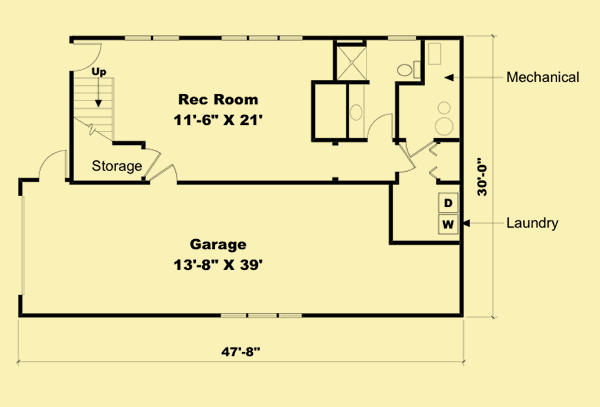door: (139, 140, 179, 187), (34, 145, 70, 185), (65, 37, 103, 74), (364, 110, 400, 142), (389, 143, 419, 180), (403, 132, 439, 162)
large sink: (393, 55, 422, 83)
small sink: (348, 84, 364, 140)
stairs: (71, 72, 115, 151)
windows: (216, 308, 307, 323), (219, 32, 307, 46), (122, 32, 182, 46), (385, 30, 422, 45)
